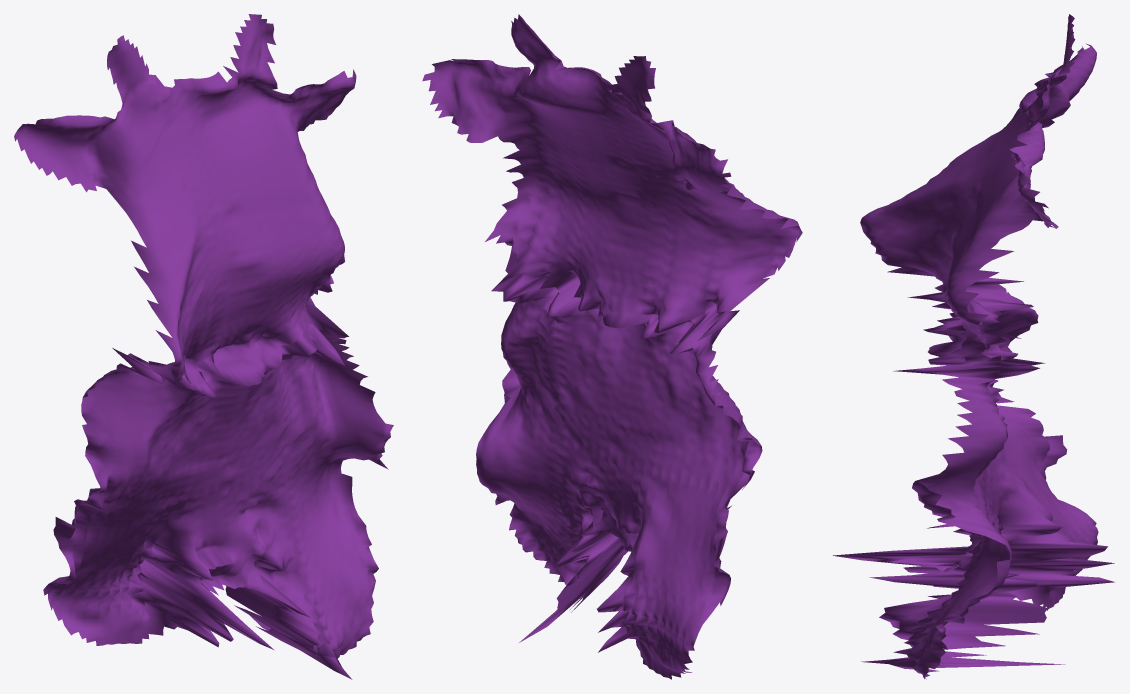
Rendered from spot_SFL.glb.
3 renders of one model, left to right at view 1: azimuth 30°, elevation 25°; view 2: azimuth 150°, elevation 25°; view 3: azimuth 270°, elevation 25°, orthographic. The views are drawn at different scales.
Parts seen in each view (by area): view 1: main-sfl-spot_triangulated; view 2: main-sfl-spot_triangulated; view 3: main-sfl-spot_triangulated.
Boxes of the visible parts, <box> form: main-sfl-spot_triangulated: <box>14,14,393,679</box>; main-sfl-spot_triangulated: <box>422,14,802,679</box>; main-sfl-spot_triangulated: <box>833,14,1114,679</box>.
Size of the model in its own units: 0.69 by 1.24 by 0.5412.
